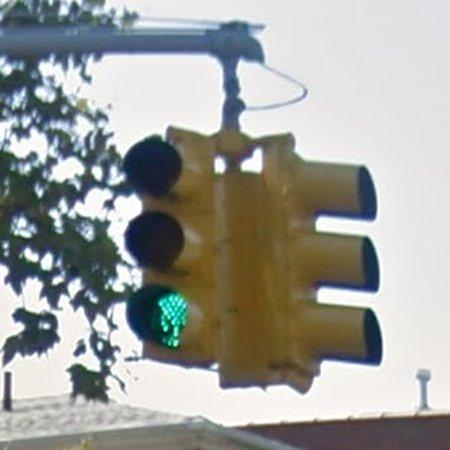traffic lights: (124, 24, 382, 393)
